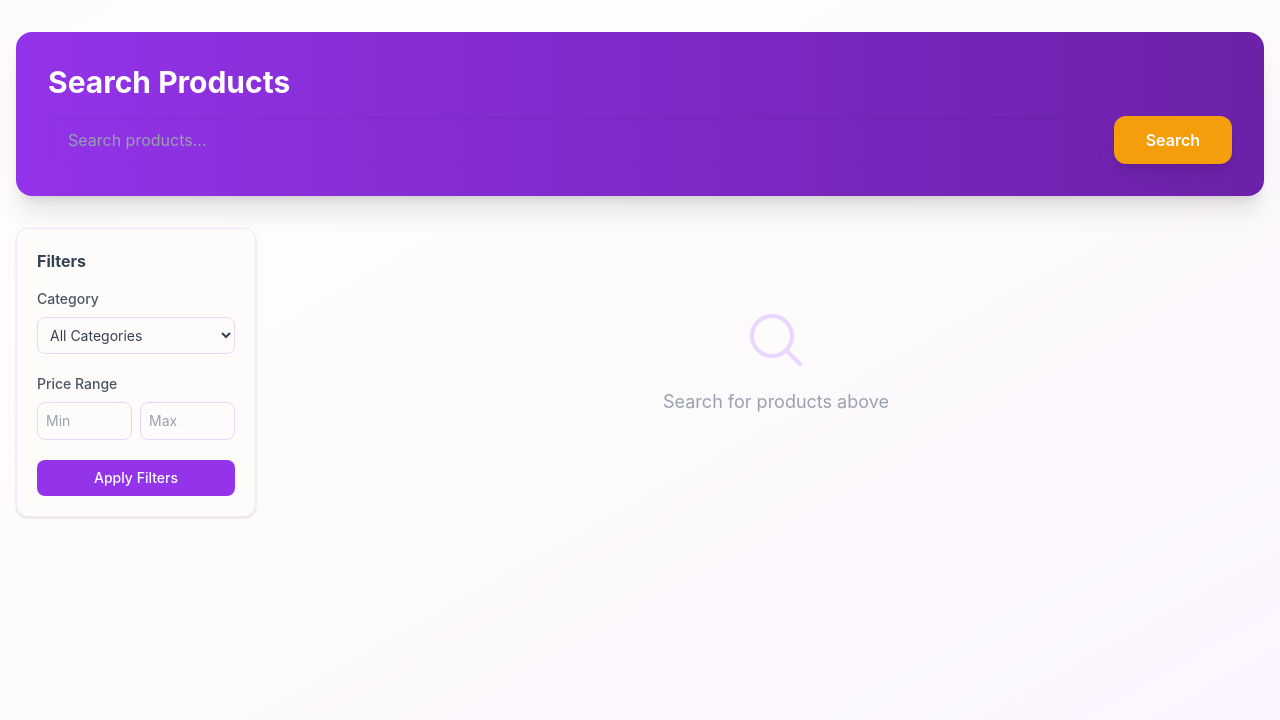
SearchPage › displays suggestion when typo detected
This screenshot has width=1280, height=720.
Type "headfones" into the field with placeholder "Search products..." at (575, 140), box x1=48 y1=116 x2=1102 y2=164
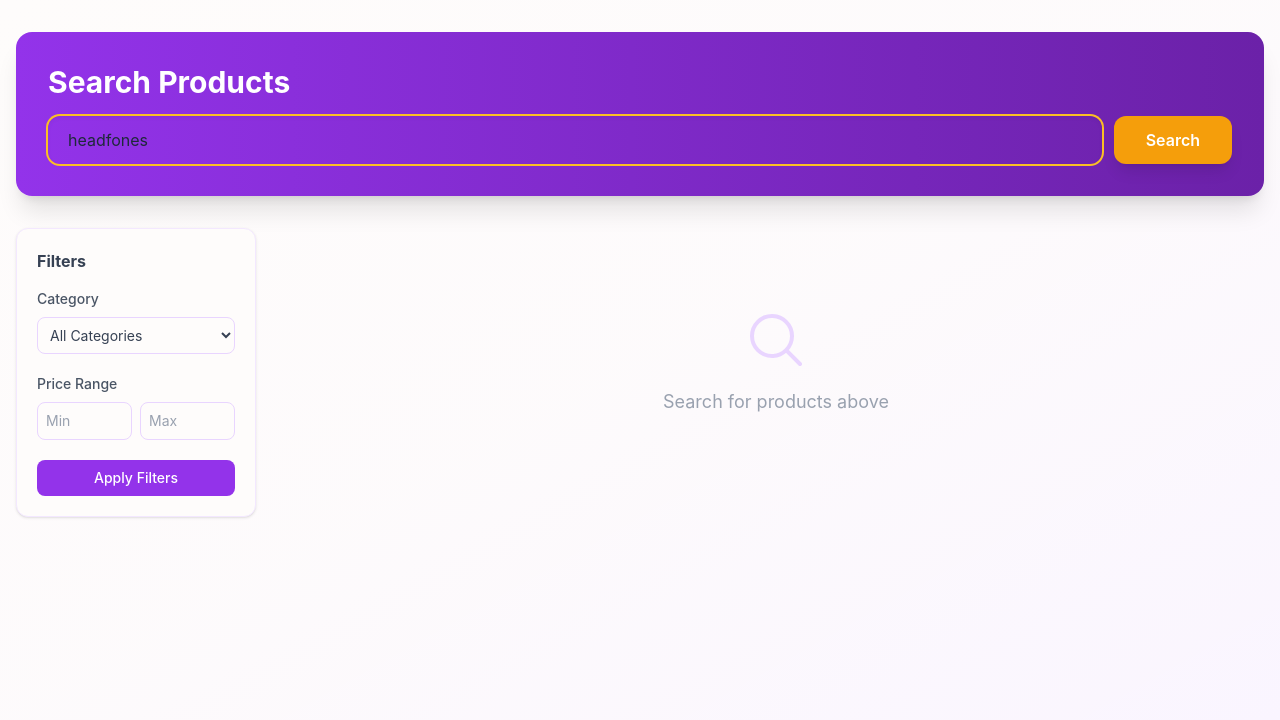
Click the button "Search" at (1173, 140), box x1=1114 y1=116 x2=1232 y2=164
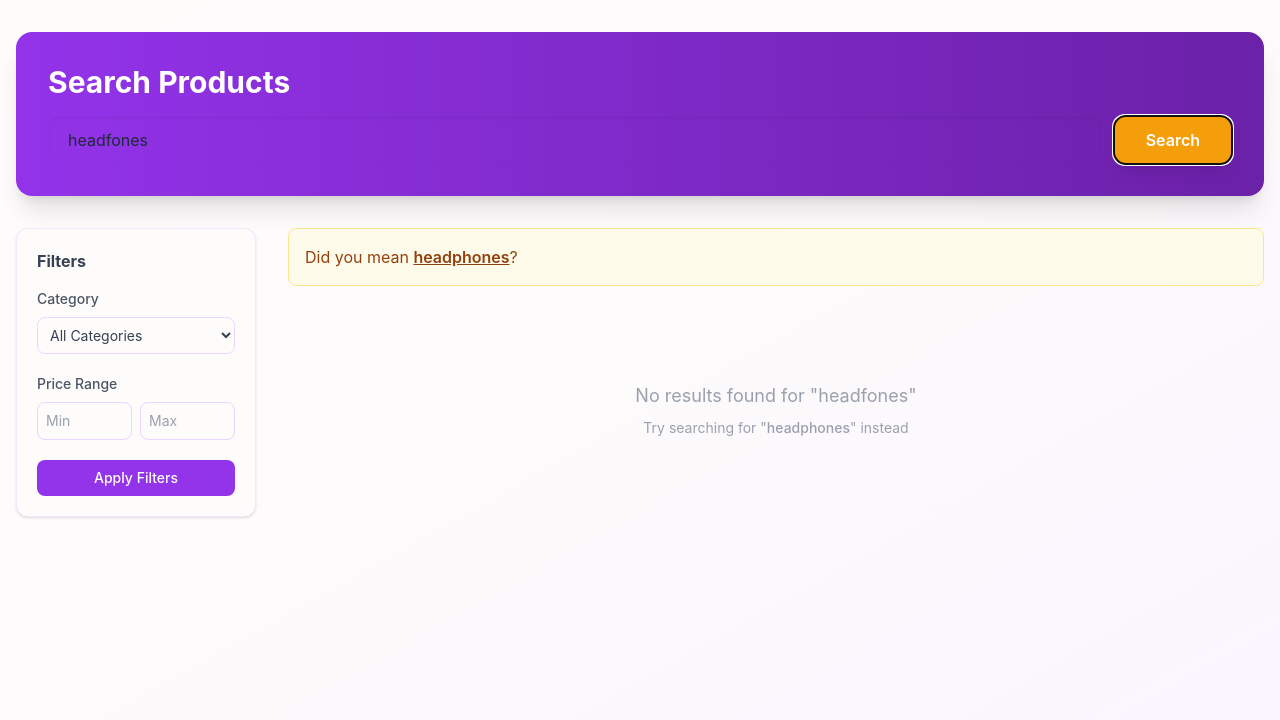
Expected: the text "Did you mean" is shown, x1=305 y1=247 x2=413 y2=267
Expected: the button "headphones" is shown, x1=413 y1=245 x2=510 y2=269
